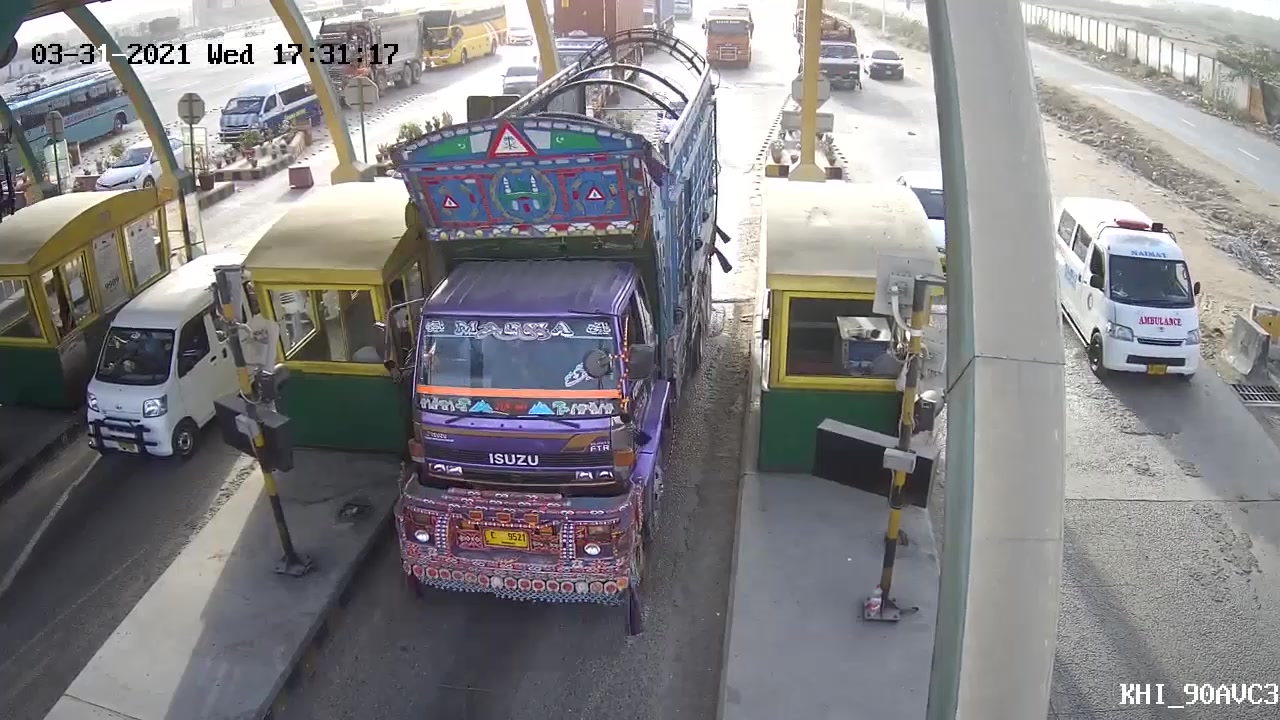F5: (379, 126, 678, 622)
